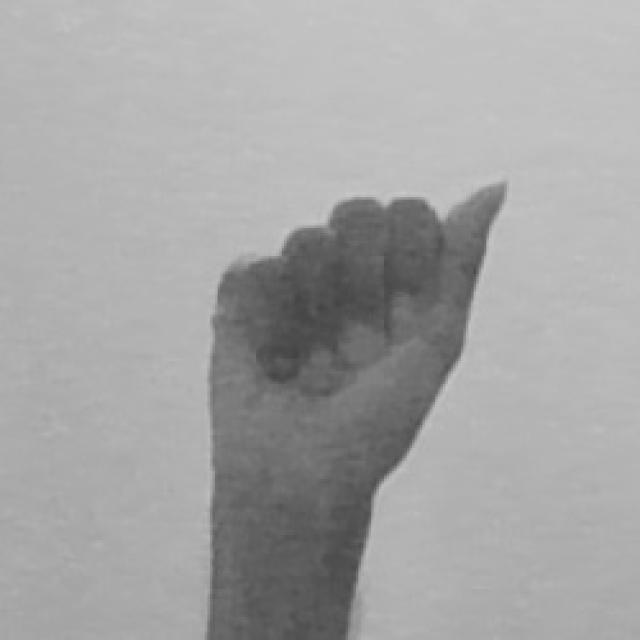A: (195, 171, 517, 640)
